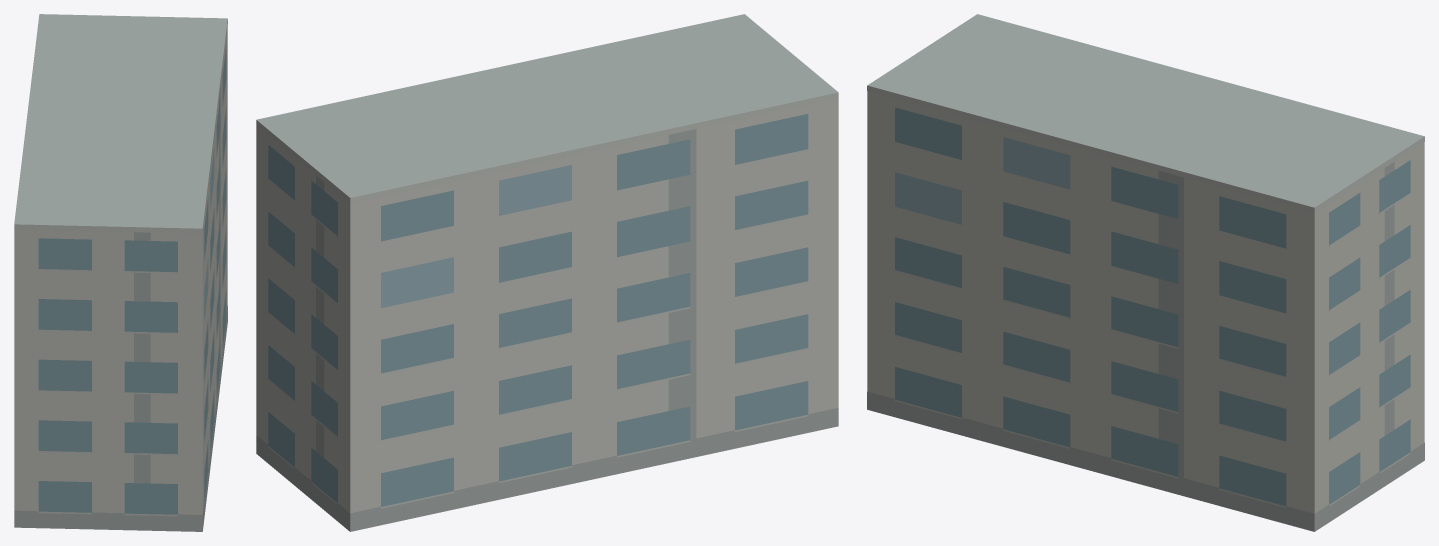
Rendered from survey-upis-32920188.glb.
3 renders of one model, left to right at view 1: azimuth 30°, elevation 25°; view 2: azimuth 150°, elevation 25°; view 3: azimuth 270°, elevation 25°, orthographic. The views are drawn at different scales.
Parts seen in each view (by area): view 1: survey-upis-32920188.tmp; view 2: survey-upis-32920188.tmp; view 3: survey-upis-32920188.tmp.
Part boxes in pixels (box(x1,y1,x2,y2)): survey-upis-32920188.tmp: box(14, 14, 227, 531); survey-upis-32920188.tmp: box(256, 14, 838, 531); survey-upis-32920188.tmp: box(867, 14, 1424, 531).
Bounding box in the file's own units: 18.2 × 14.2 × 22.14.
